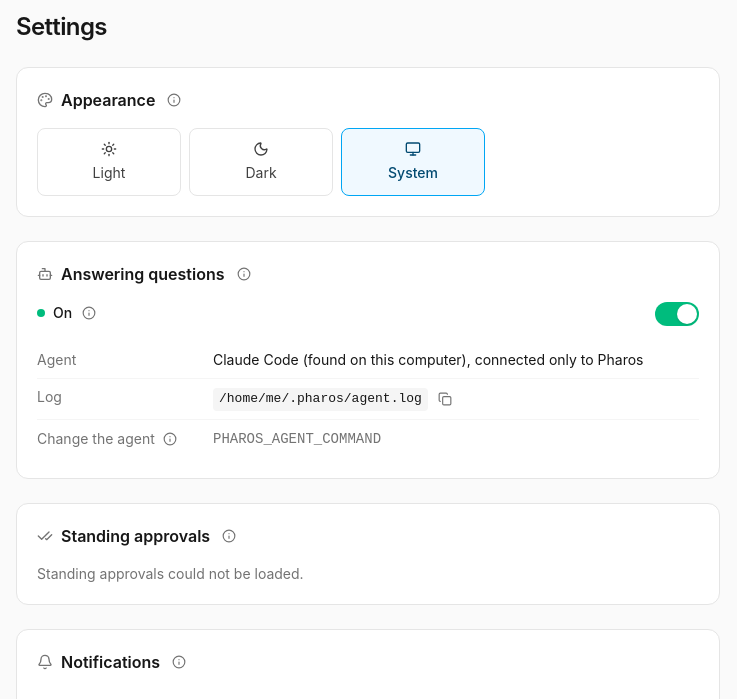
settings › pauses and resumes answering, but never sets the command
Click the switch named "Answer questions automatically".
click(677, 314)  # box x1=655 y1=302 x2=699 y2=326
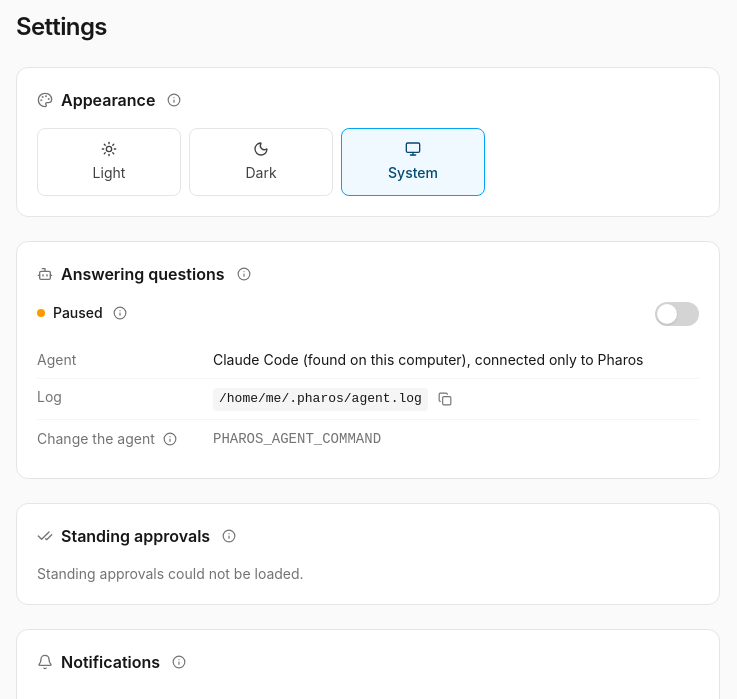
Expected: the text "Paused" is shown, x1=37 y1=303 x2=103 y2=323
